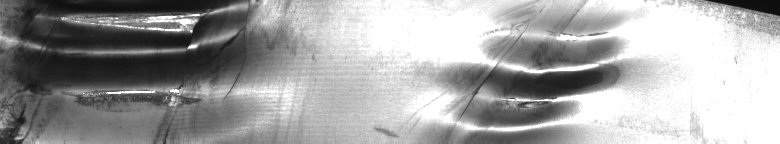ke: (4, 4, 252, 136)
